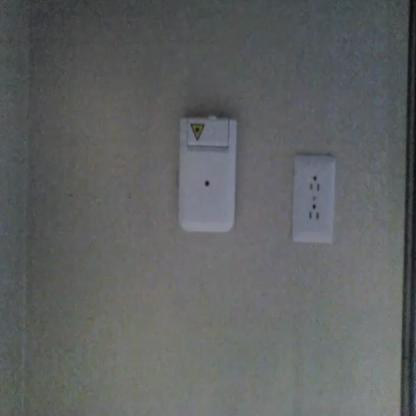OUTLET: (292, 157, 335, 242)
